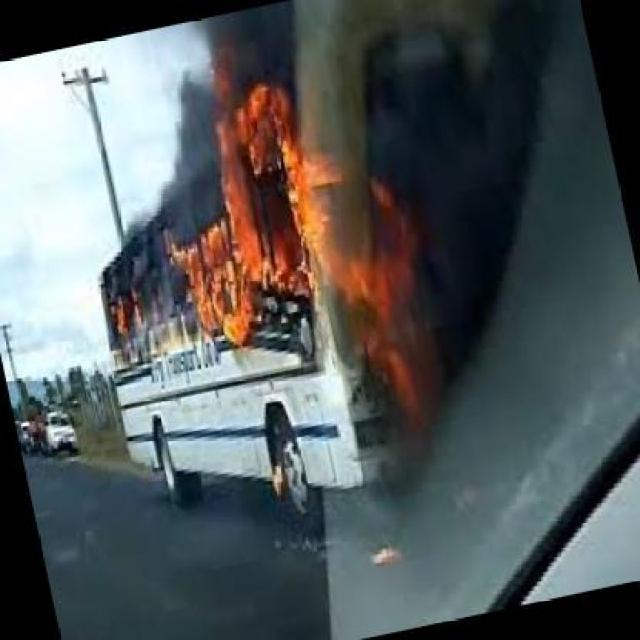Fire: (207, 82, 337, 308), (351, 194, 422, 400), (164, 222, 265, 334)
Smoke: (421, 0, 553, 266), (150, 84, 219, 207), (200, 6, 316, 73)
